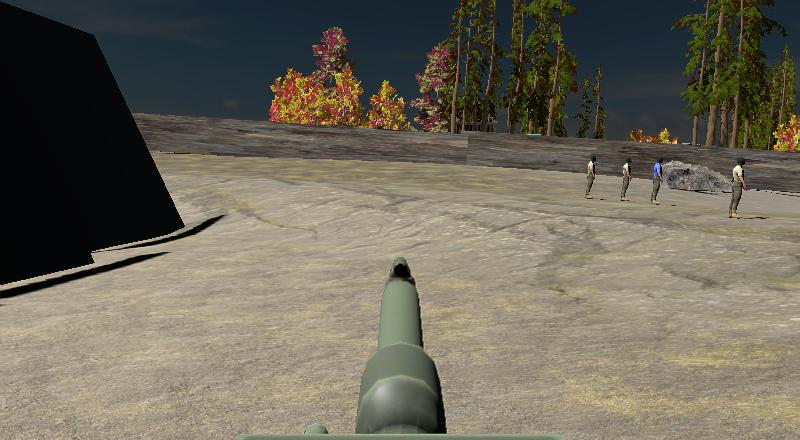Human: (725, 154, 750, 220), (648, 155, 665, 207), (581, 152, 599, 201), (618, 155, 635, 204)
